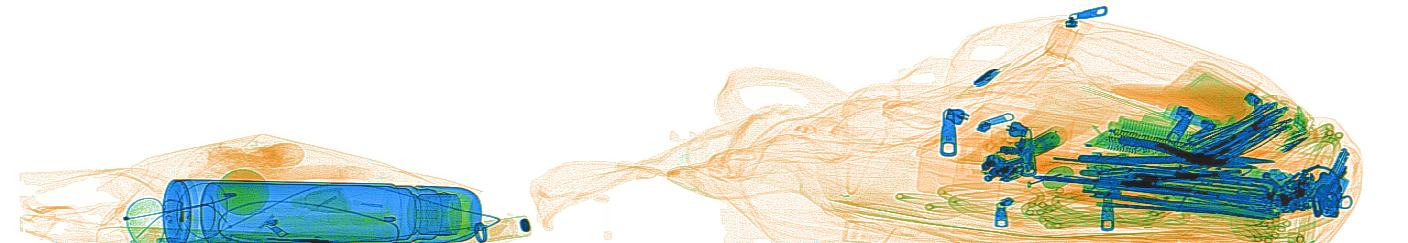battery: (1017, 130, 1057, 153)
